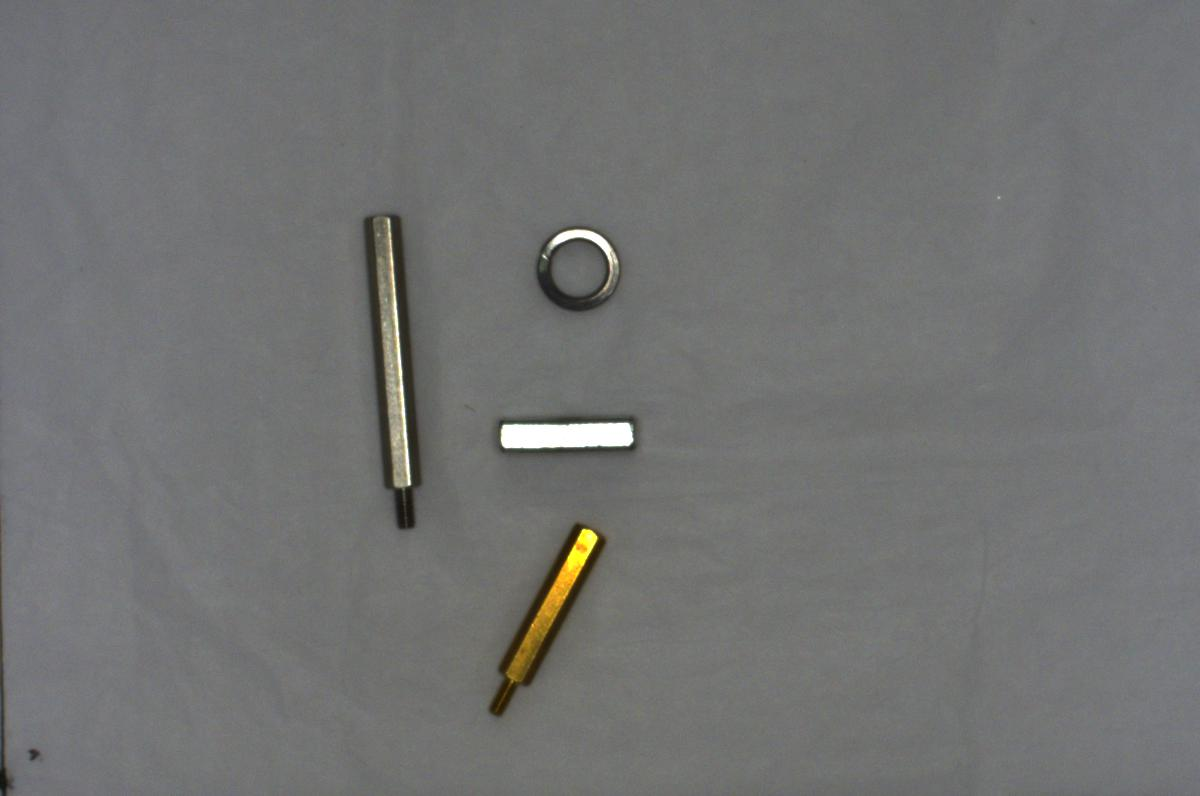Hexagon pillar: (474, 509, 610, 727)
Hexagonal steel column: (357, 203, 434, 540)
Rectangular nut: (488, 406, 645, 462)
Spring washer: (528, 218, 624, 320)
